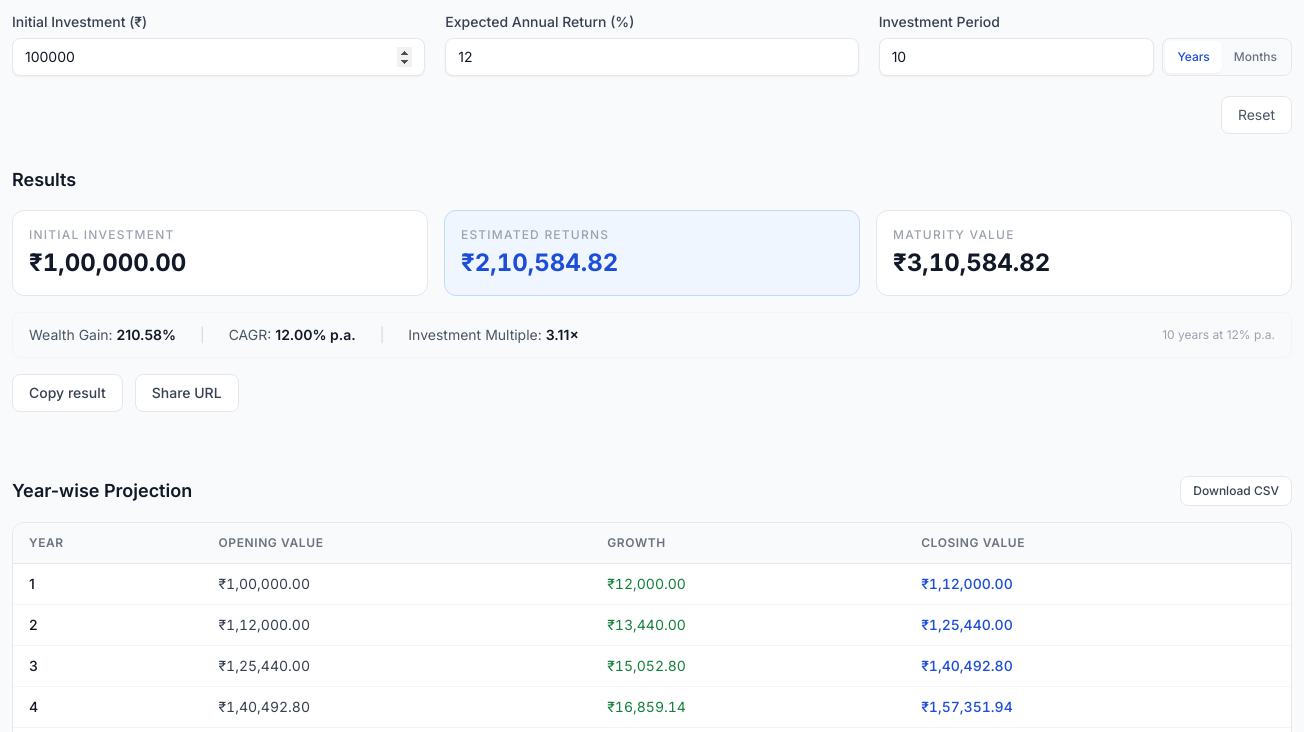
Test case: LumpsumCalculator › shows error when return exceeds 100%
The image size is (1304, 732).
Replace the text in the number field labelled "Expected Annual Return (%)" with "150" at point(652, 57), box [445,38,859,76]
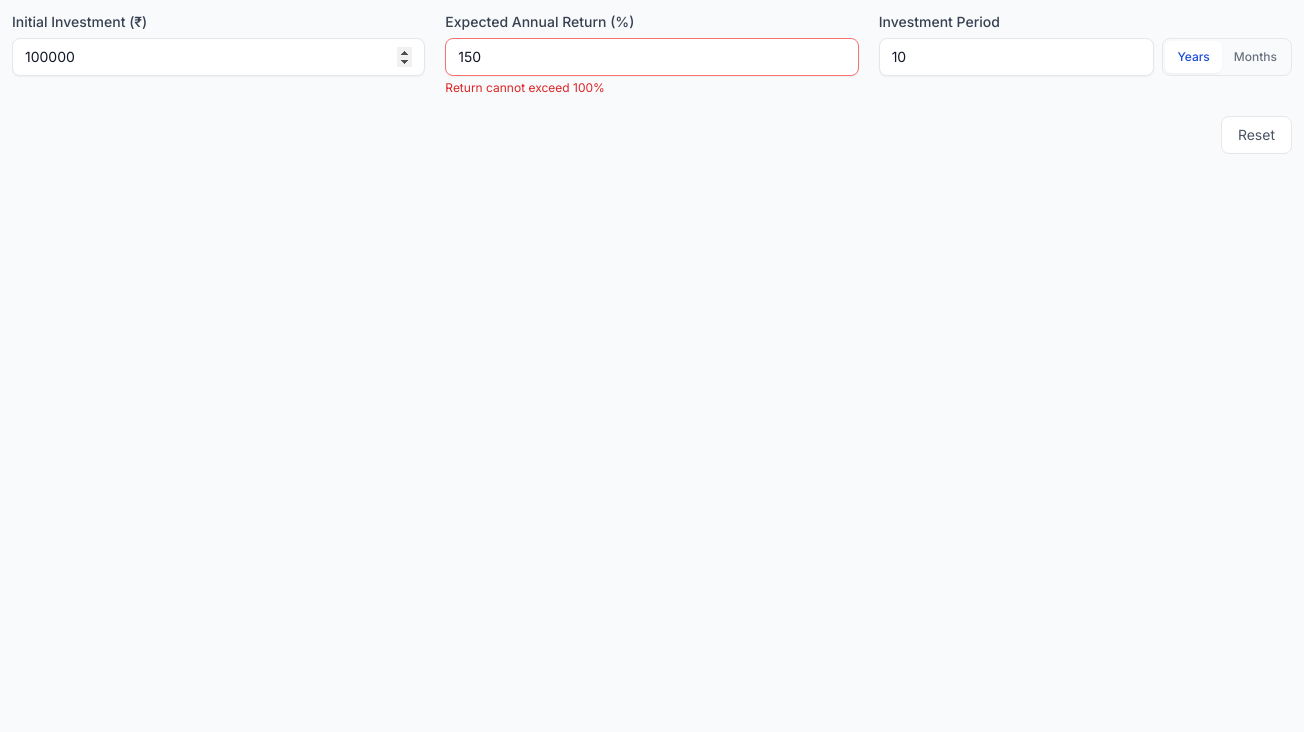
Check: the text "Return cannot exceed 100%" is shown, box [445,80,605,95]
